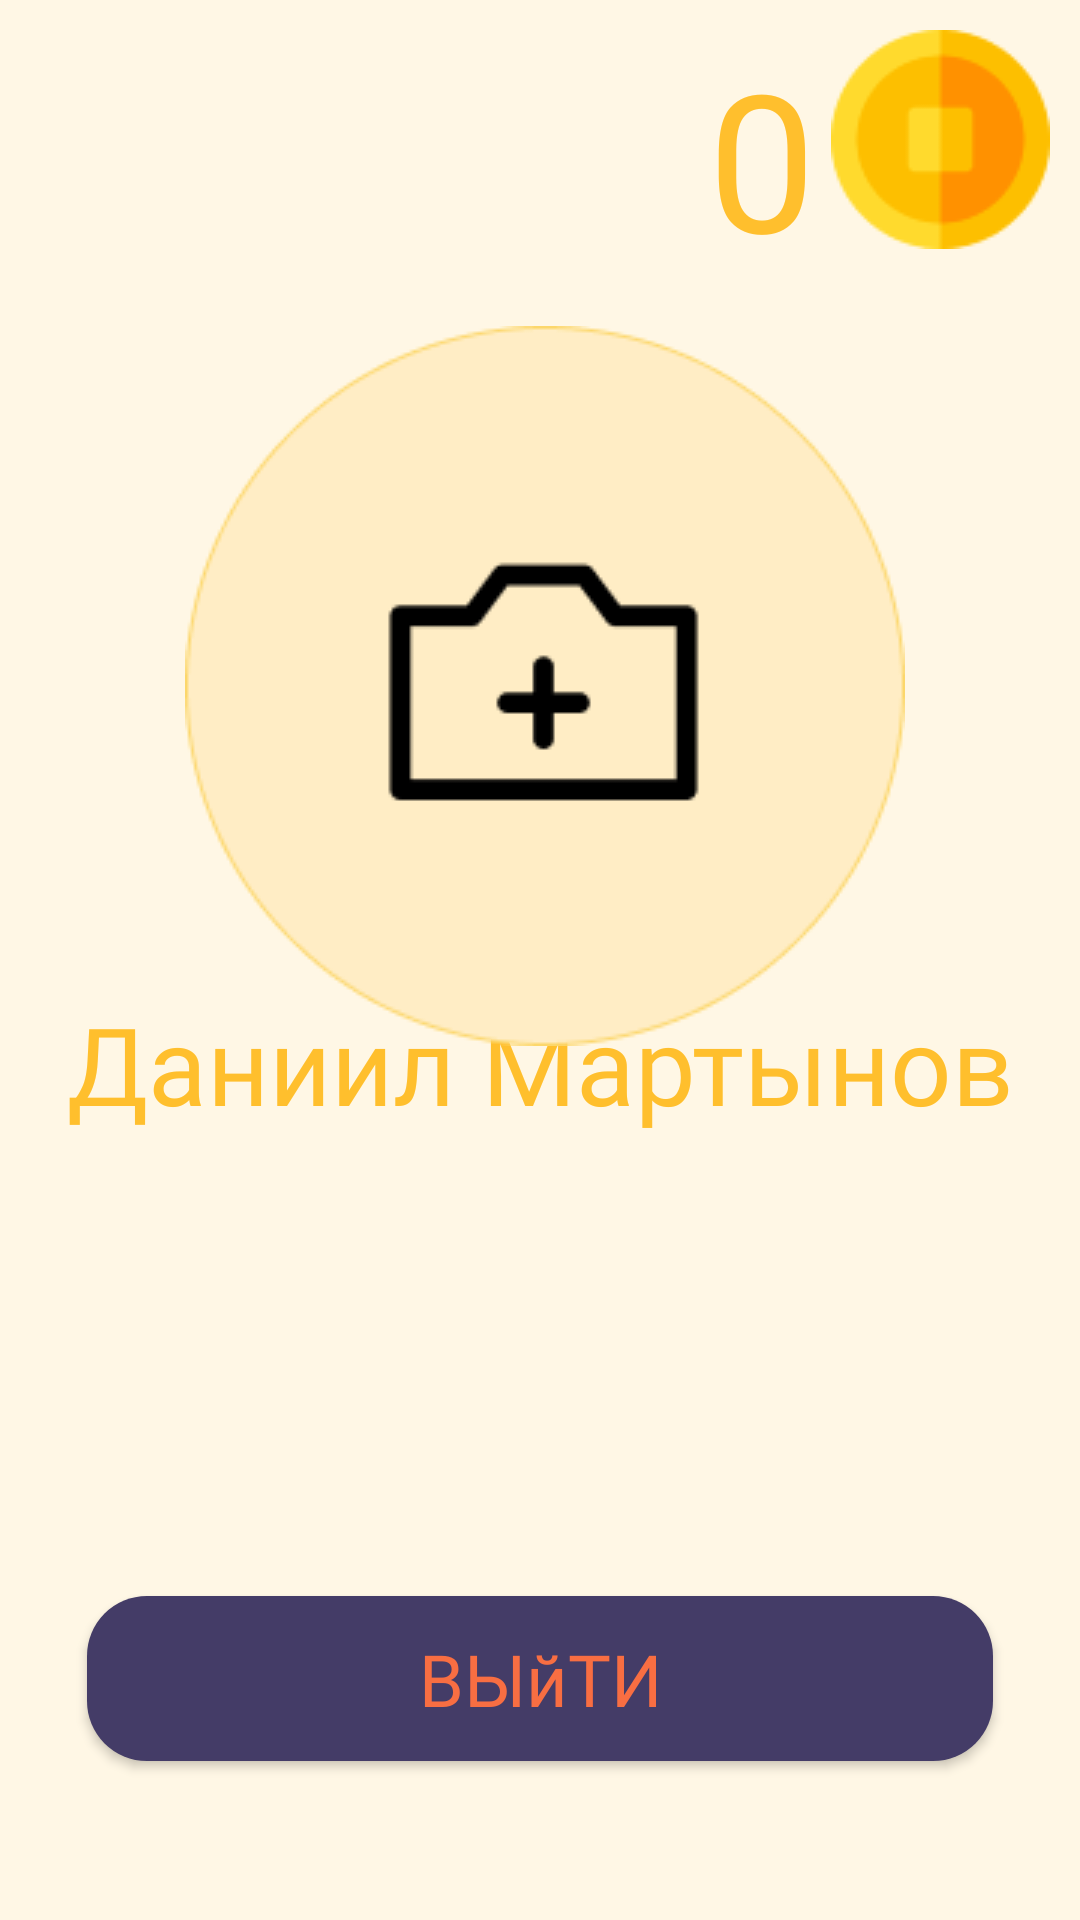

Point at icon controls on the screen. Image size 1080px×1920px, points as (x=x, y=y).
coin: (x=940, y=139)
